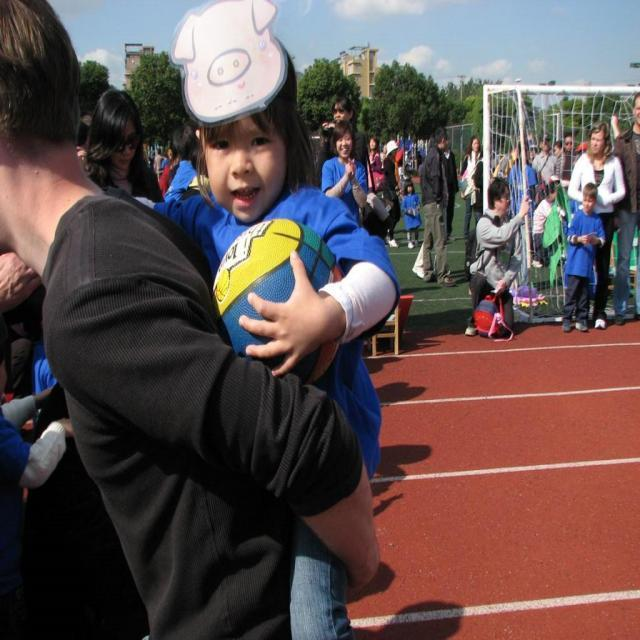ball: (207, 222, 344, 389), (472, 296, 502, 334)
